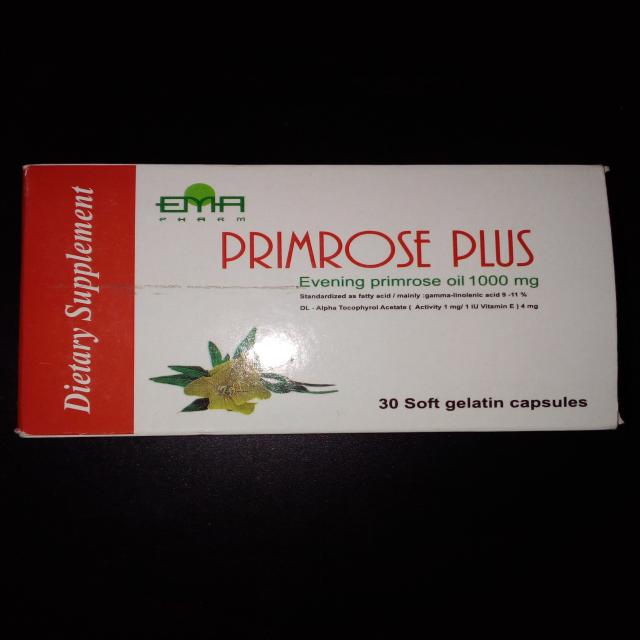Medicine: (14, 151, 623, 441)
